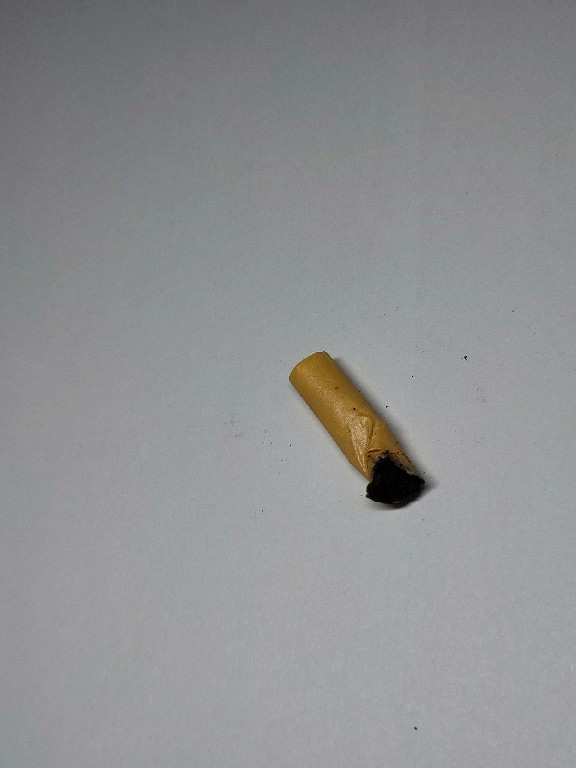cigarette: (282, 341, 431, 513)
